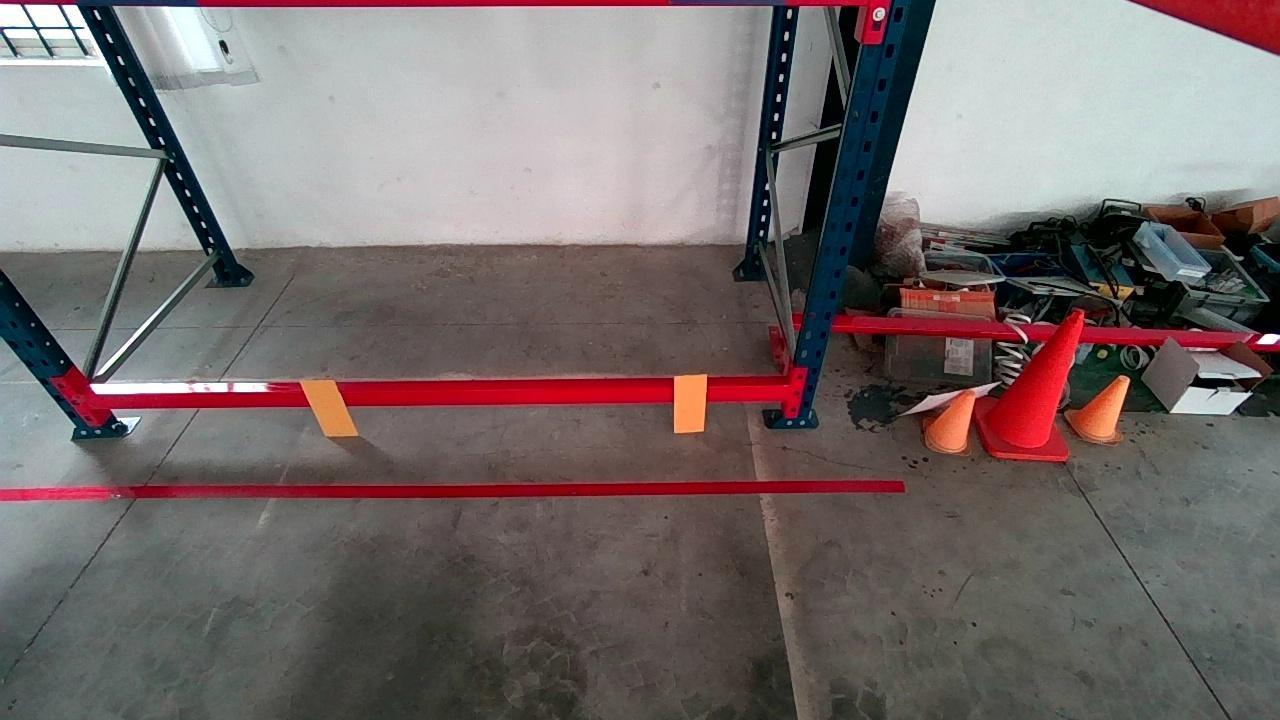h_rack: (98, 381, 783, 415)
orange_strip: (302, 378, 357, 435), (675, 373, 708, 431)
red_line: (3, 475, 900, 499)
